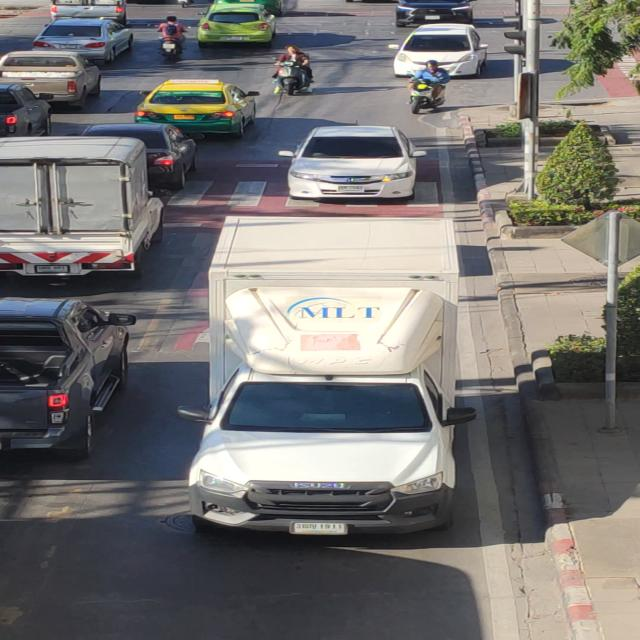car: (184, 214, 480, 546), (273, 117, 445, 206)
